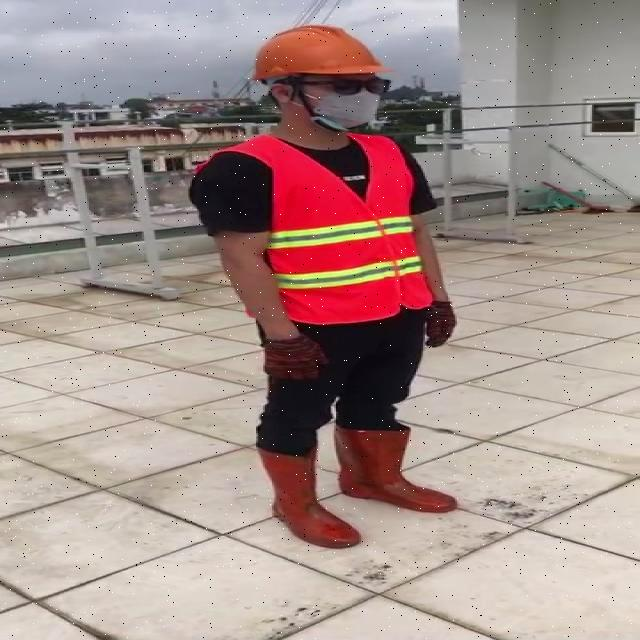Hard_hat: (241, 23, 391, 96)
Person: (191, 24, 460, 597)
Vest: (258, 128, 420, 329)
